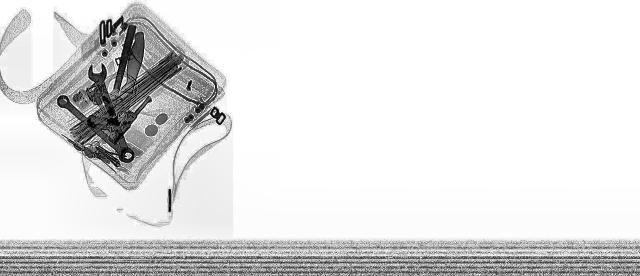Gun: (77, 91, 159, 135)
Knife: (122, 32, 144, 104)
Wrench: (48, 94, 142, 164), (83, 64, 139, 162)
